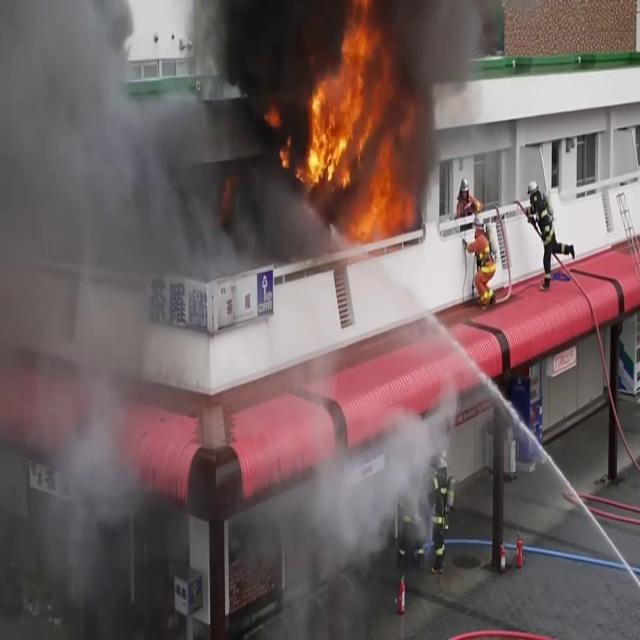Fire: (294, 7, 418, 245)
Smoke: (1, 0, 333, 347), (0, 0, 163, 594)
